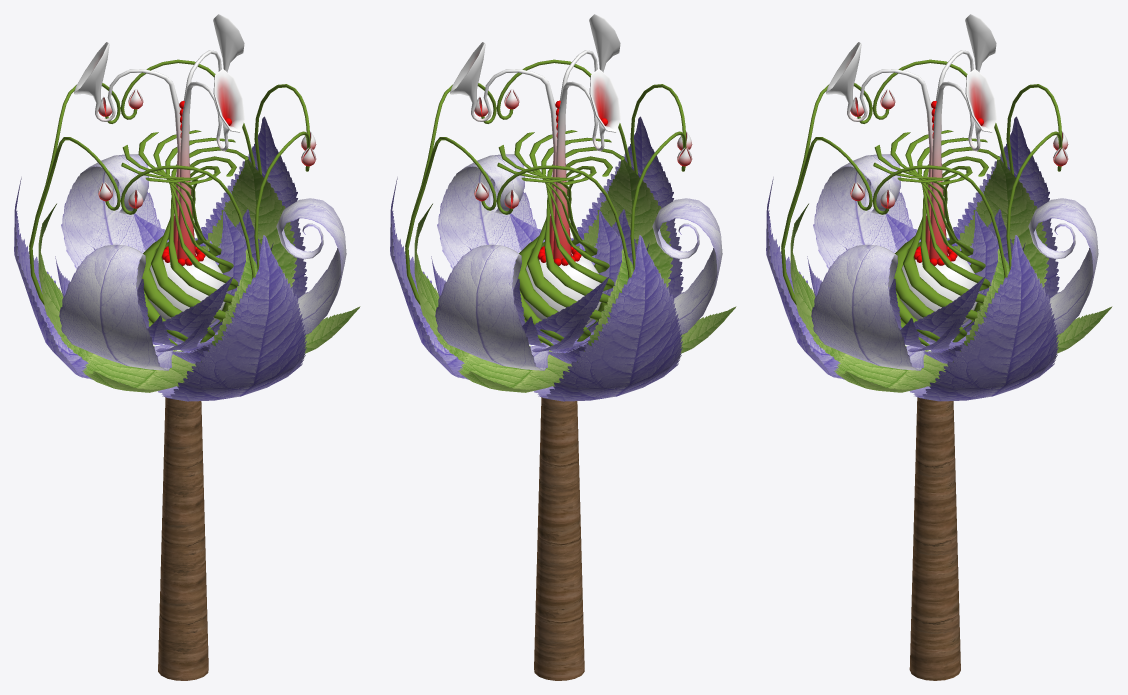
Rendered from MagicFlower_Still_vg_001.FBX.
3 renders of one model, left to right at view 1: azimuth 30°, elevation 25°; view 2: azimuth 150°, elevation 25°; view 3: azimuth 270°, elevation 25°, orthographic.
Parts seen in each view (by area): view 1: Woodstick, Leaf_Purple_BIG_001, Leaf_White_001, Leaf_White_002, Tendrils, Leaf_White_003, Leafs_Purple_Middle, Leaf_Green_Big_001, MainBud_001, Leaf_Purple_BIG_003, Leaf_Green_Small_001, Leaf_Purple_BIG_002 (+14 smaller); view 2: Woodstick, Leaf_Purple_BIG_002, Leaf_White_002, Leaf_White_003, Tendrils, Leaf_White_001, Leafs_Purple_Middle, Leaf_Green_Big_002, MainBud_003, Leaf_Purple_BIG_001, Leaf_Green_Small_002, Leaf_Purple_BIG_003 (+14 smaller); view 3: Woodstick, Leaf_Purple_BIG_003, Leaf_White_003, Leaf_White_001, Tendrils, Leaf_White_002, Leafs_Purple_Middle, Leaf_Green_Big_003, MainBud_002, Leaf_Purple_BIG_002, Leaf_Green_Small_003, Leaf_Purple_BIG_001 (+14 smaller).
Part boxes in pixels (box(x1,y1,x2,y2)): Woodstick: box(158, 397, 208, 680); Leaf_Purple_BIG_001: box(157, 235, 306, 401); Leaf_White_001: box(59, 244, 175, 370); Leaf_White_002: box(61, 154, 160, 268); Tendrils: box(29, 59, 310, 304); Leaf_White_003: box(276, 198, 346, 334); Leafs_Purple_Middle: box(93, 210, 273, 343); Leaf_Green_Big_001: box(202, 159, 296, 287); MainBud_001: box(177, 69, 244, 259); Leaf_Purple_BIG_003: box(194, 116, 307, 299); Leaf_Green_Small_001: box(82, 346, 196, 392); Leaf_Purple_BIG_002: box(14, 177, 92, 379); Woodstick: box(534, 397, 584, 680); Leaf_Purple_BIG_002: box(533, 235, 682, 401); Leaf_White_002: box(435, 244, 551, 370); Leaf_White_003: box(437, 154, 536, 268); Tendrils: box(405, 59, 686, 304); Leaf_White_001: box(652, 198, 722, 334); Leafs_Purple_Middle: box(469, 210, 649, 343); Leaf_Green_Big_002: box(578, 159, 672, 287); MainBud_003: box(553, 69, 620, 259); Leaf_Purple_BIG_001: box(551, 116, 683, 342); Leaf_Green_Small_002: box(458, 346, 572, 392); Leaf_Purple_BIG_003: box(390, 177, 468, 379); Woodstick: box(909, 397, 960, 680); Leaf_Purple_BIG_003: box(909, 235, 1058, 401); Leaf_White_003: box(811, 244, 927, 370); Leaf_White_001: box(813, 154, 912, 268); Tendrils: box(781, 59, 1062, 304); Leaf_White_002: box(1028, 198, 1098, 334); Leafs_Purple_Middle: box(845, 210, 1025, 343); Leaf_Green_Big_003: box(954, 159, 1048, 287); MainBud_002: box(929, 69, 996, 259); Leaf_Purple_BIG_002: box(946, 116, 1059, 299); Leaf_Green_Small_003: box(834, 346, 948, 392); Leaf_Purple_BIG_001: box(766, 177, 844, 379).
Bounding box in the file's own units: 94.71 × 203 × 102.
Materials: 8 (5 with a texture image).
